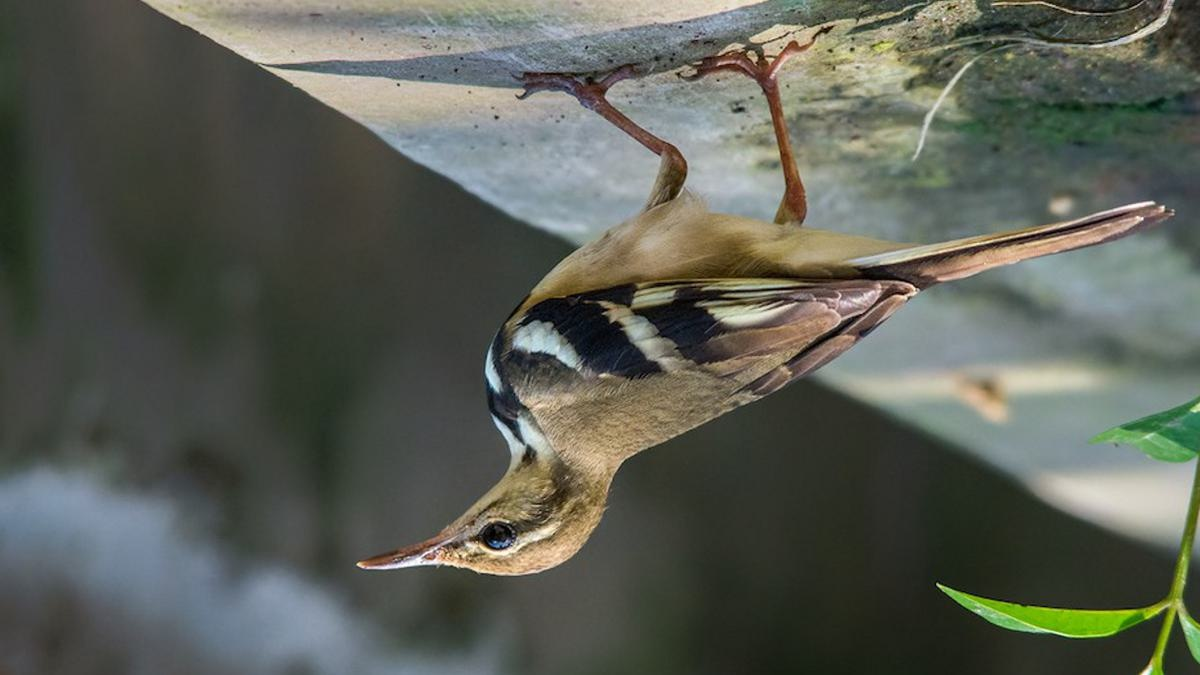wagtail: (324, 95, 1089, 619)
